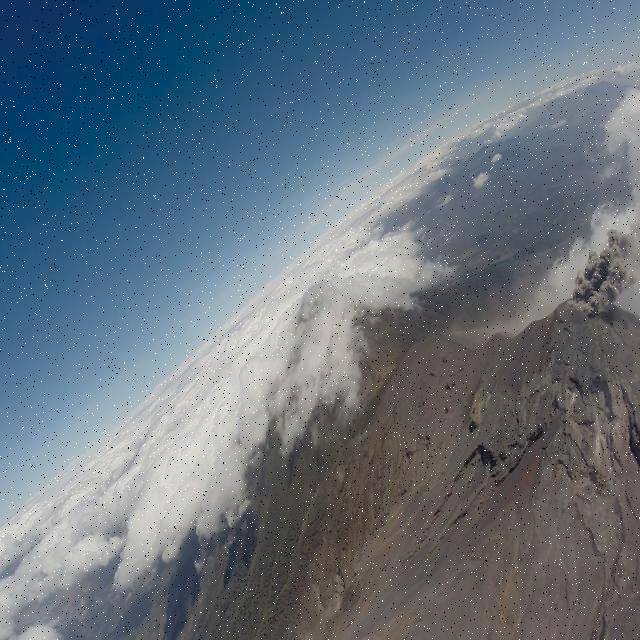Plume: (564, 210, 640, 324)
Summit: (490, 280, 640, 472)
